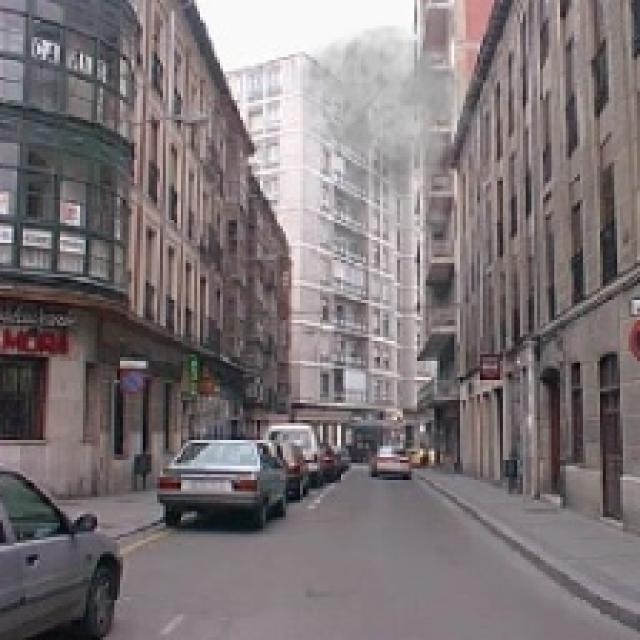Smoke: (288, 23, 488, 254)
